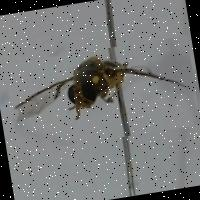Oriental-fruit-fly: (4, 34, 200, 152)
